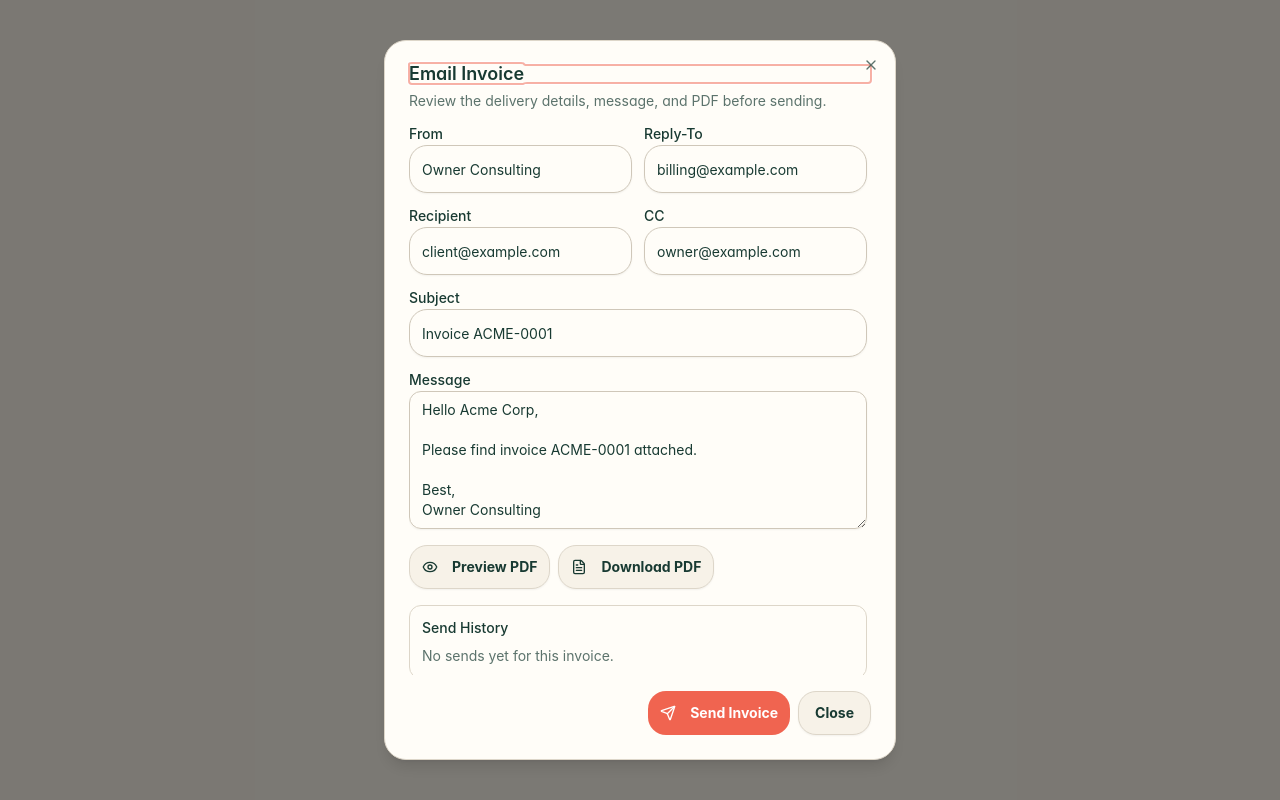
Test: EmailInvoiceDialog — editable delivery and result states (R2/R3/R5) › retains the composition and shows an inline retry error when sending fails
Replace the text in the field labelled "Subject" with "Keep this subject". click: x=638, y=333
box: [409, 309, 867, 357]
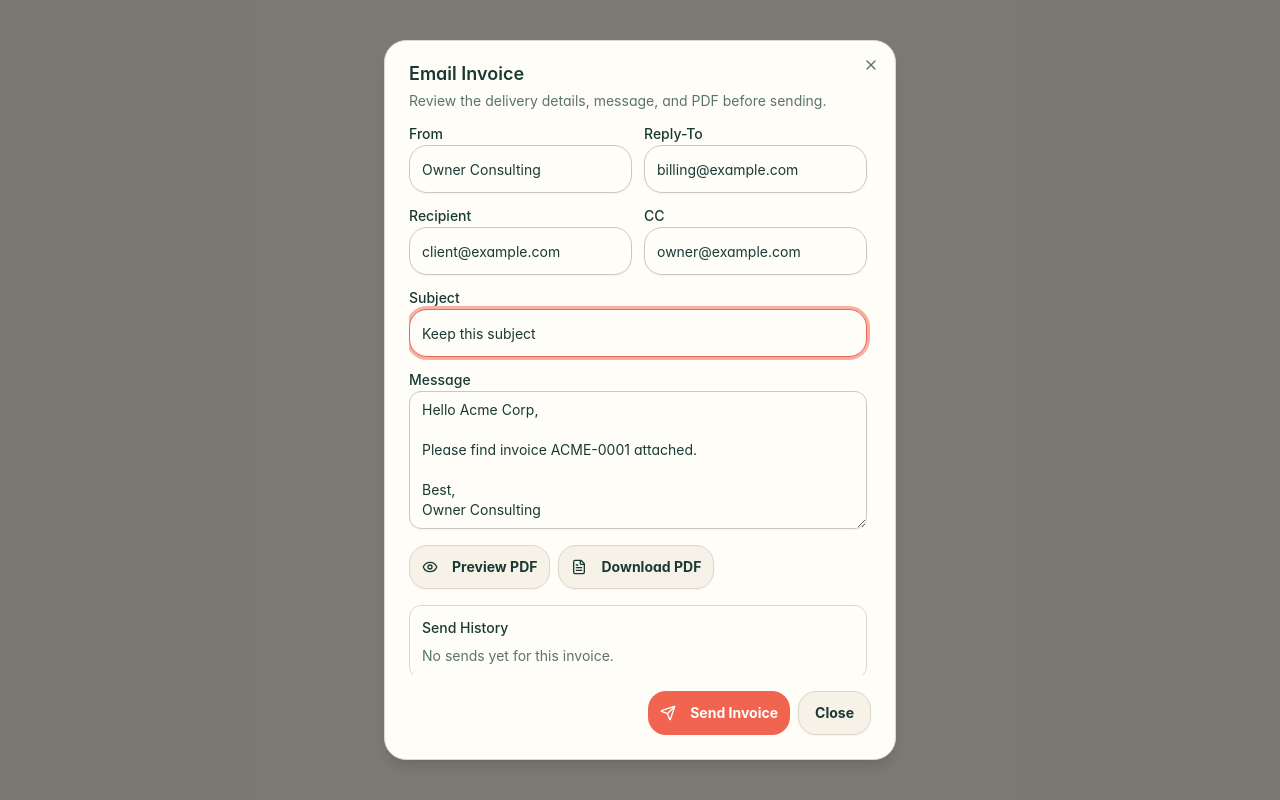
Click the button "Send Invoice". click: x=719, y=713
box: [648, 691, 790, 735]
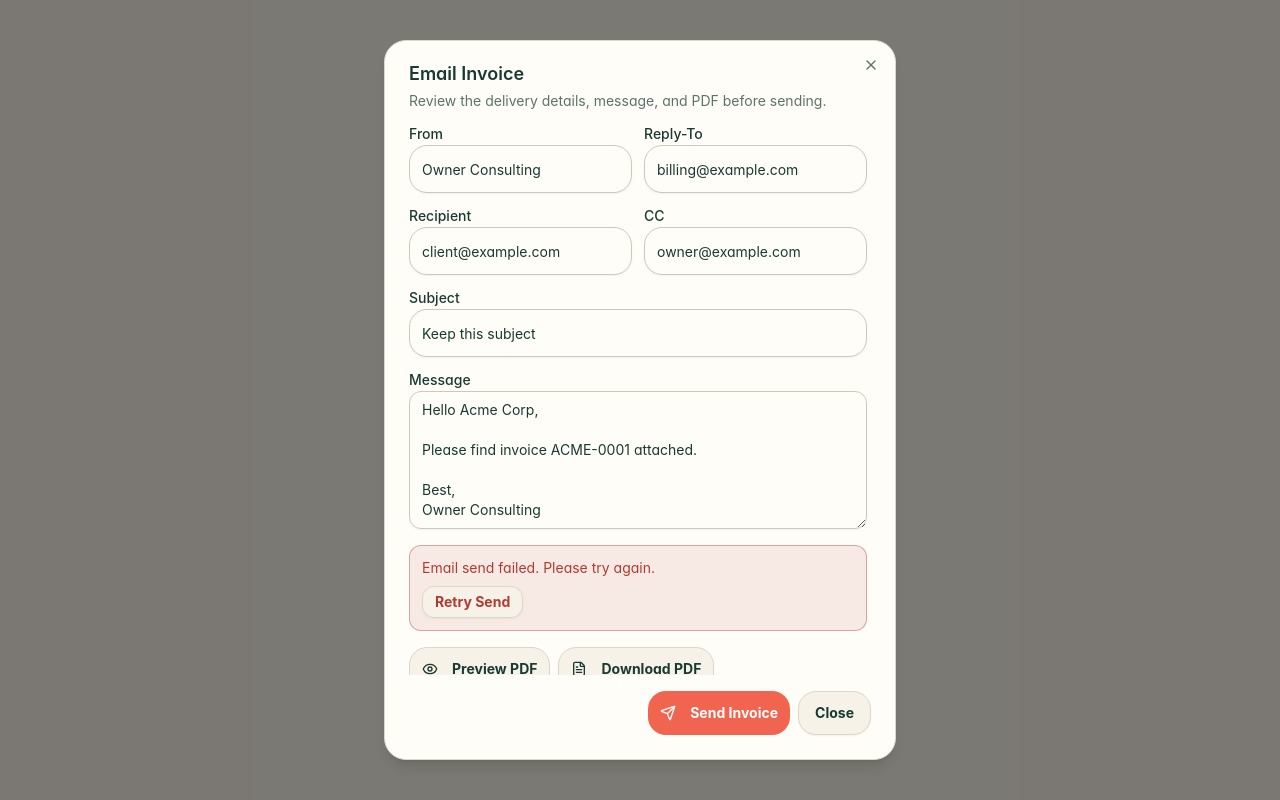
expect the message shows "Email send failed. Please try again.": met, box [422, 559, 655, 576]
expect the button "Retry Send" is shown: met, box [422, 586, 523, 618]
